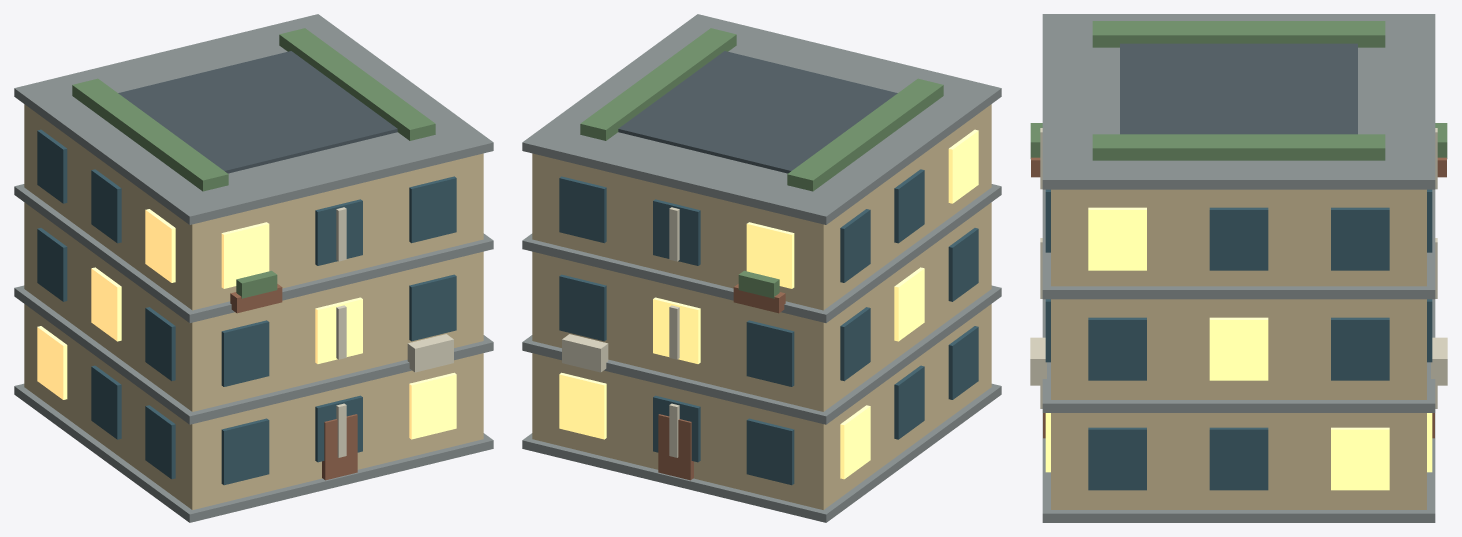
File: courtyard.glb
3 renders of one model, left to right at view 1: azimuth 30°, elevation 25°; view 2: azimuth 150°, elevation 25°; view 3: azimuth 270°, elevation 25°, orthographic. The views are drawn at different scales.
Visible parts, largest first — view 1: Module_2; view 2: Module_2; view 3: Module_2.
Part boxes in pixels (x1=…): Module_2: x1=14, y1=14, x2=493, y2=522; Module_2: x1=522, y1=14, x2=1001, y2=522; Module_2: x1=1030, y1=14, x2=1447, y2=522.
Size of the model in its own units: 0.94 by 0.9375 by 0.998.
